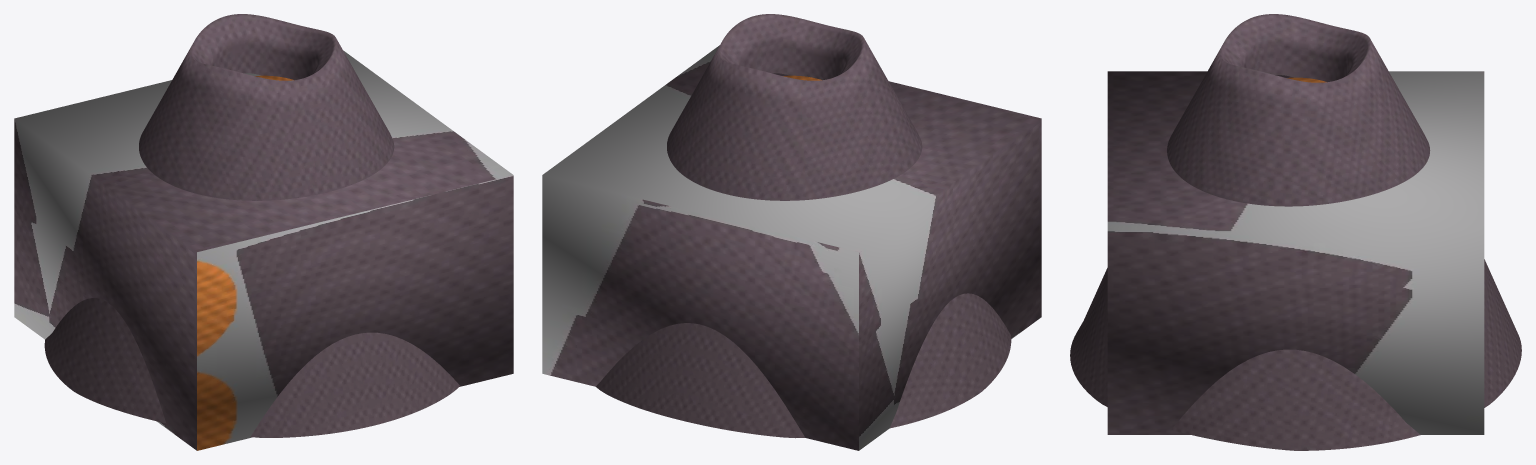
The model's file is landmark_volcano.glb.
The picture shows the model from 3 angles, left to right: view 1: azimuth 30°, elevation 25°; view 2: azimuth 150°, elevation 25°; view 3: azimuth 270°, elevation 25°; orthographic projection. The views are drawn at different scales.
Visible parts, largest first — view 1: col, lod0; view 2: col, lod0; view 3: col, lod0.
Boxes of the visible parts, left/top/right/bottom form: col: left=14, top=50, right=513, bottom=450; lod0: left=44, top=14, right=459, bottom=437; col: left=542, top=45, right=1041, bottom=450; lod0: left=596, top=14, right=1011, bottom=438; col: left=1107, top=71, right=1484, bottom=434; lod0: left=1070, top=14, right=1521, bottom=450.
Size of what is drawn, in the model's own units: 24 by 18.3 by 24.
2 materials, 2 textured.
